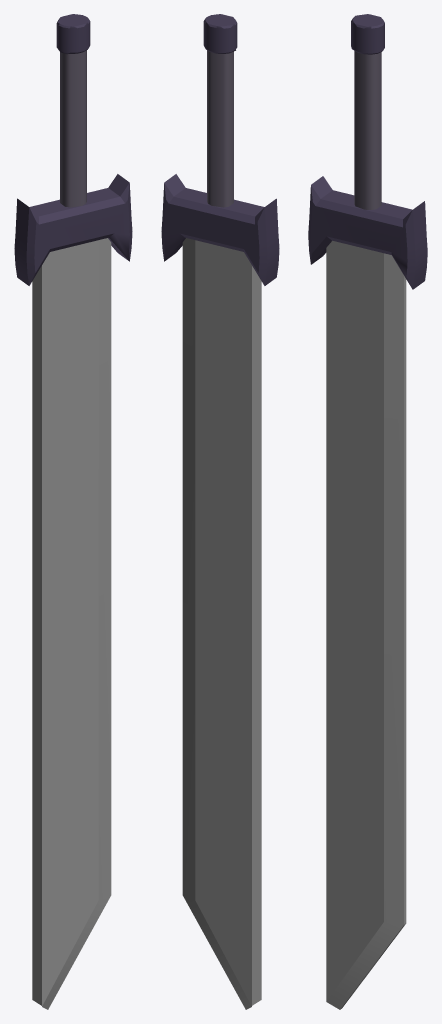
File: Espada_Modelo4.fbx
3 renders of one model, left to right at view 1: azimuth 30°, elevation 25°; view 2: azimuth 150°, elevation 25°; view 3: azimuth 330°, elevation 25°, orthographic.
Visible parts, largest first — view 1: Espada_Modelo4; view 2: Espada_Modelo4; view 3: Espada_Modelo4.
Part boxes in pixels (bbox=[...]): Espada_Modelo4: bbox=[14, 14, 132, 1009]; Espada_Modelo4: bbox=[161, 14, 279, 1009]; Espada_Modelo4: bbox=[308, 14, 427, 1009].
Size of the model in its own units: 0.1677 by 1.49 by 0.0475.
